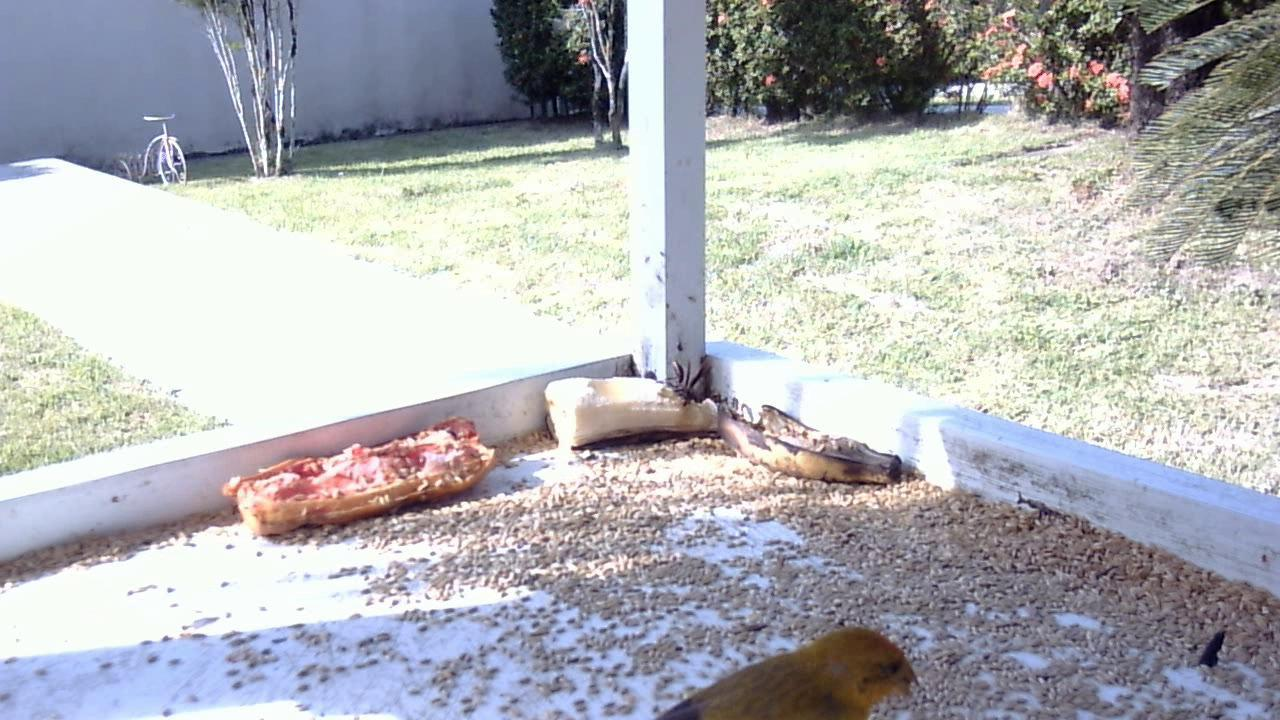canario_do_amazonas: (641, 622, 920, 718)
